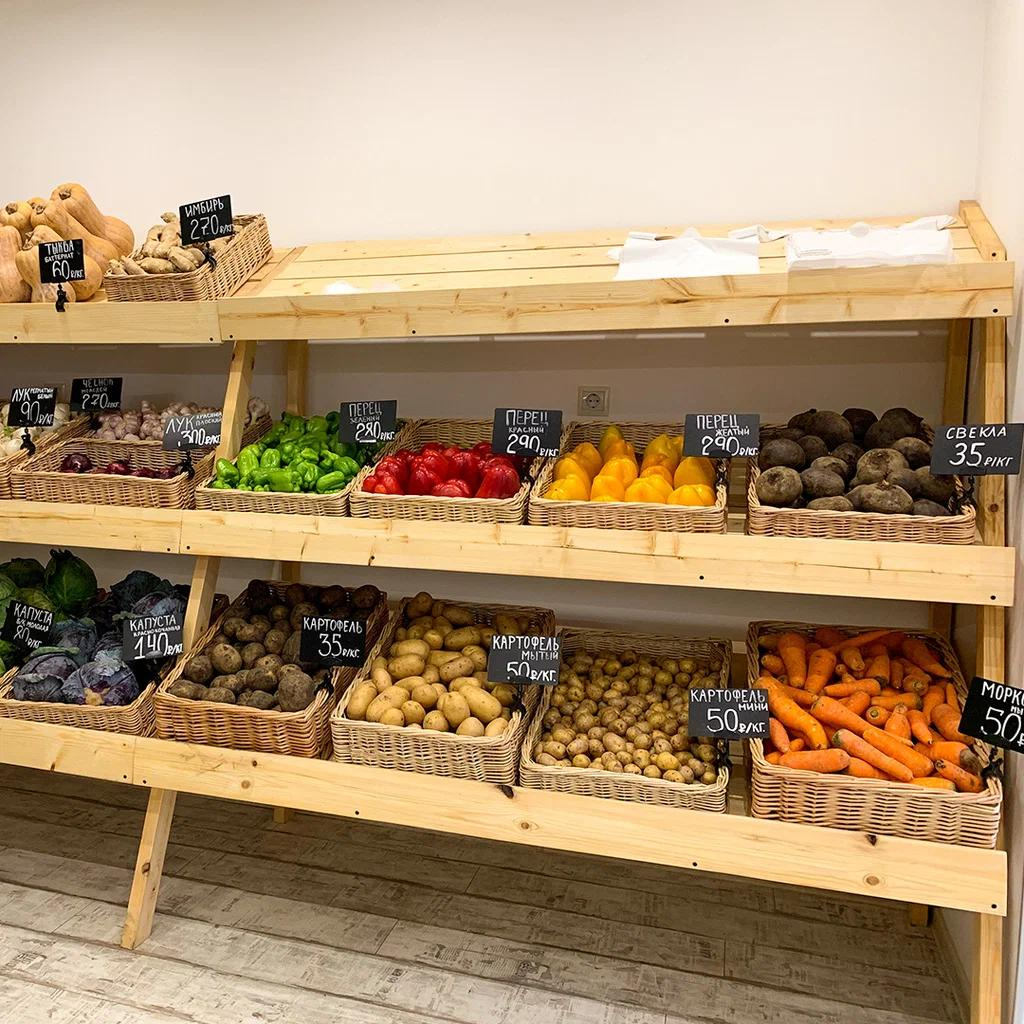beet: (750, 408, 967, 512)
butternut squash: (0, 182, 134, 308)
cabbage: (0, 549, 96, 663)
carrot: (759, 621, 980, 790)
garlic: (95, 402, 200, 443)
ginger: (112, 207, 254, 278)
onion: (62, 444, 172, 486)
potato: (346, 594, 547, 739), (539, 633, 721, 786), (171, 584, 371, 697)
sweet pepper: (548, 413, 724, 505), (372, 406, 522, 502), (224, 395, 362, 487)
